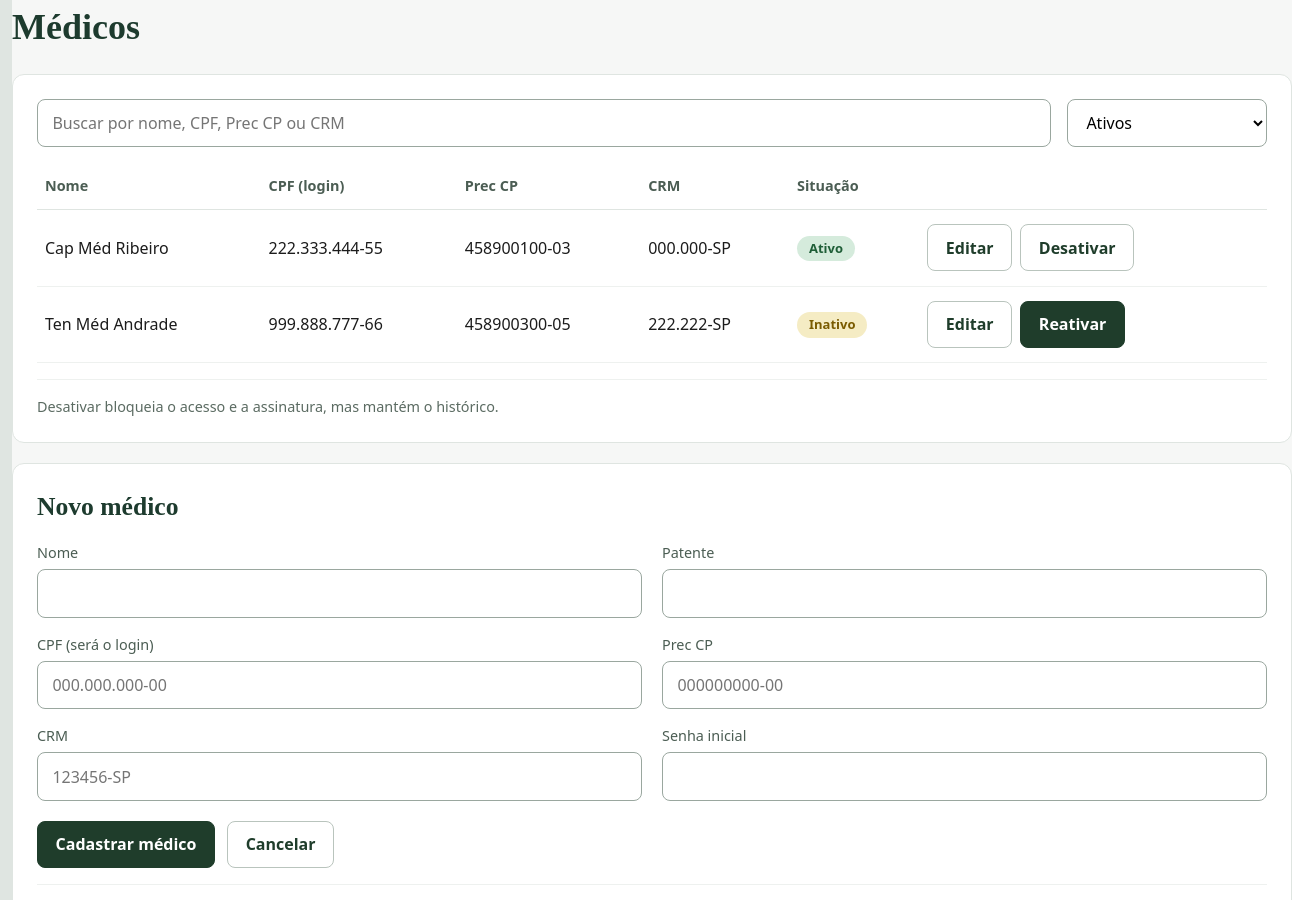
Test: T8-FE · Tela Médicos › mostra o 409 de CPF duplicado no campo CPF
Expected: the text "Cap Méd Ribeiro" is shown, [37, 210, 260, 286]
Type "Maj Méd Teixeira" into the field labelled "Nome" at (340, 594), box [37, 569, 642, 618]
Type "Major" into the field labelled "Patente" at (964, 594), box [662, 569, 1267, 618]
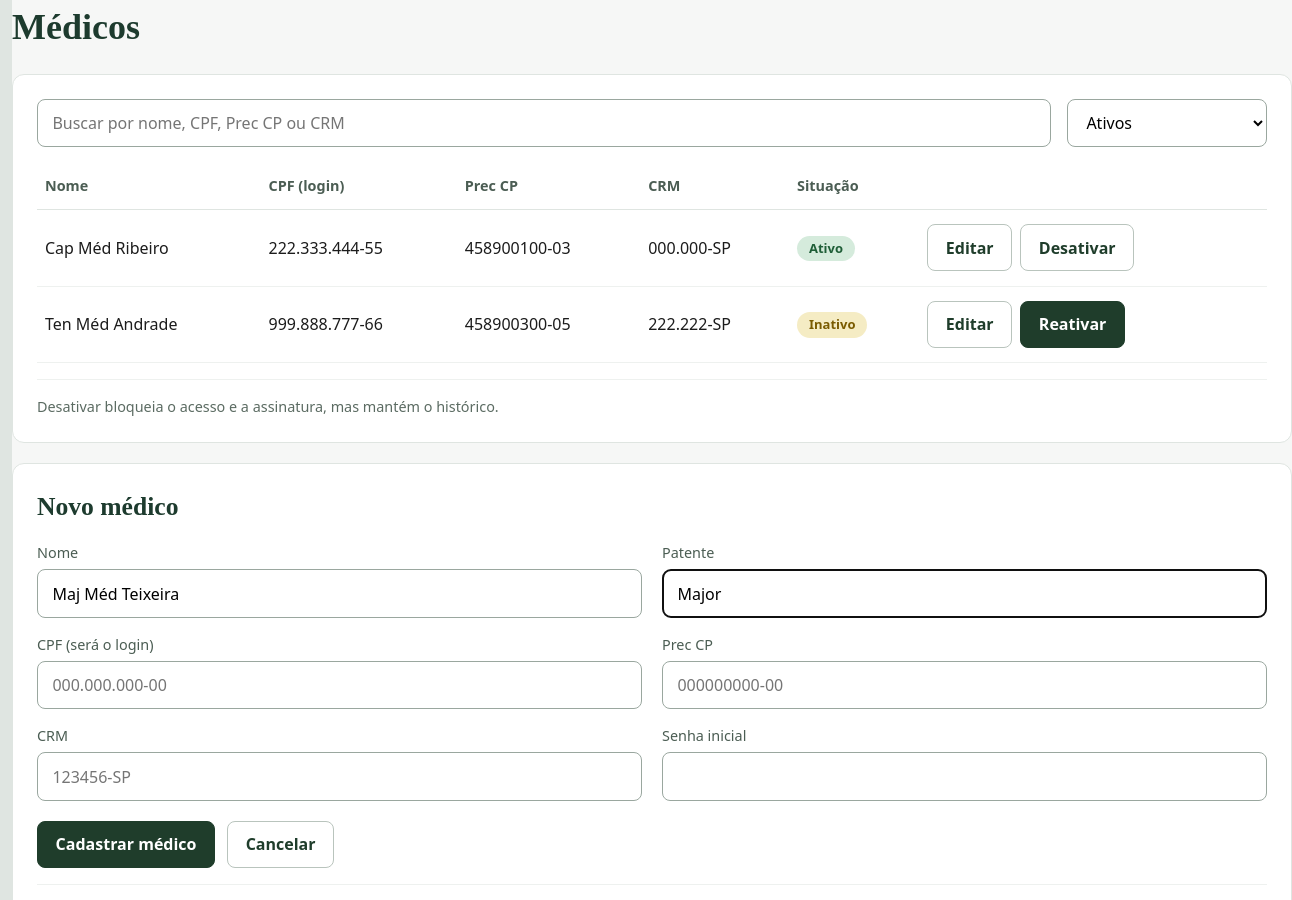
Type "52998224725" into the field labelled "CPF (será o login)" at (340, 685), box [37, 661, 642, 709]
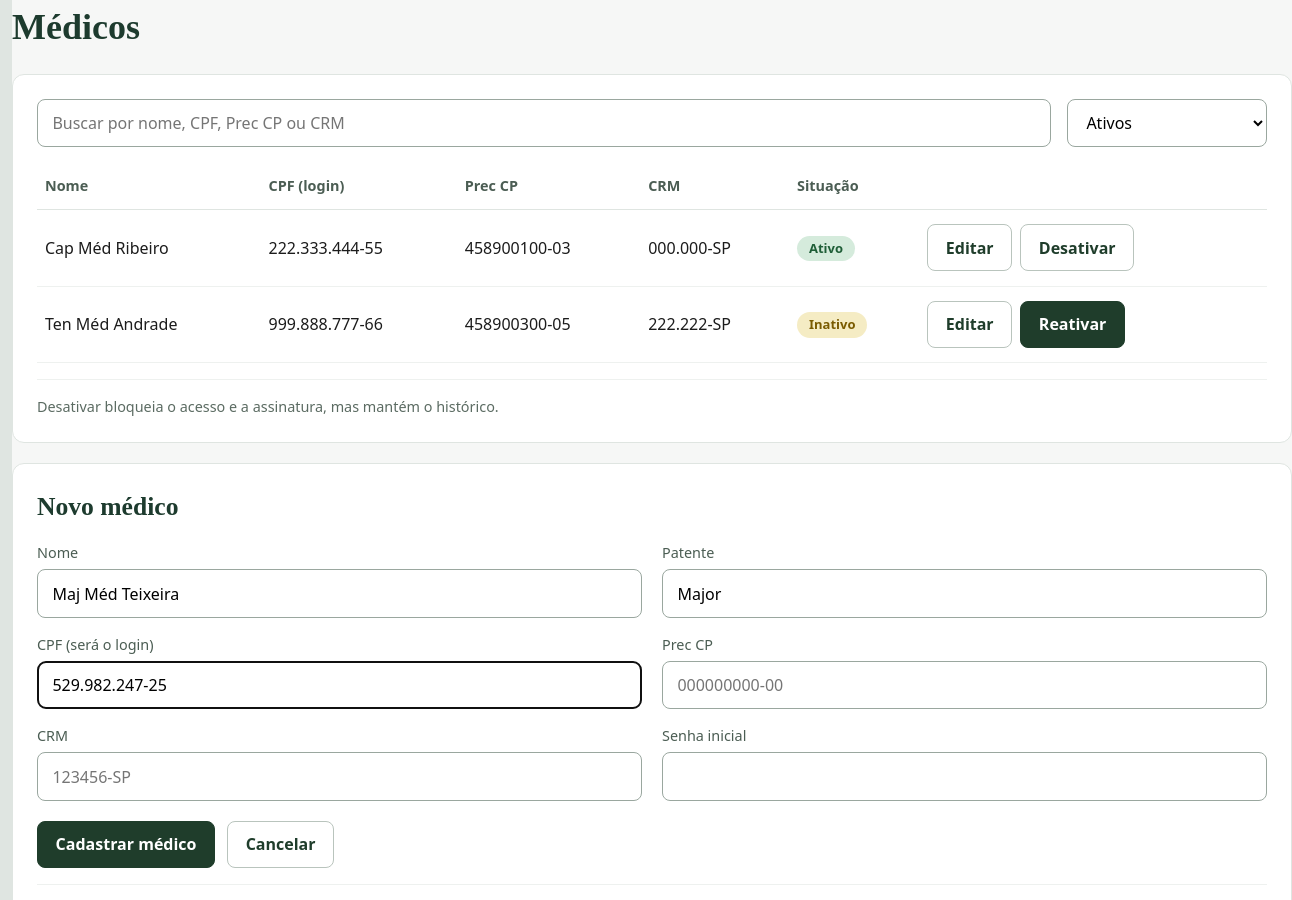
Type "45890020004" into the field labelled "Prec CP" at (964, 685), box [662, 661, 1267, 709]
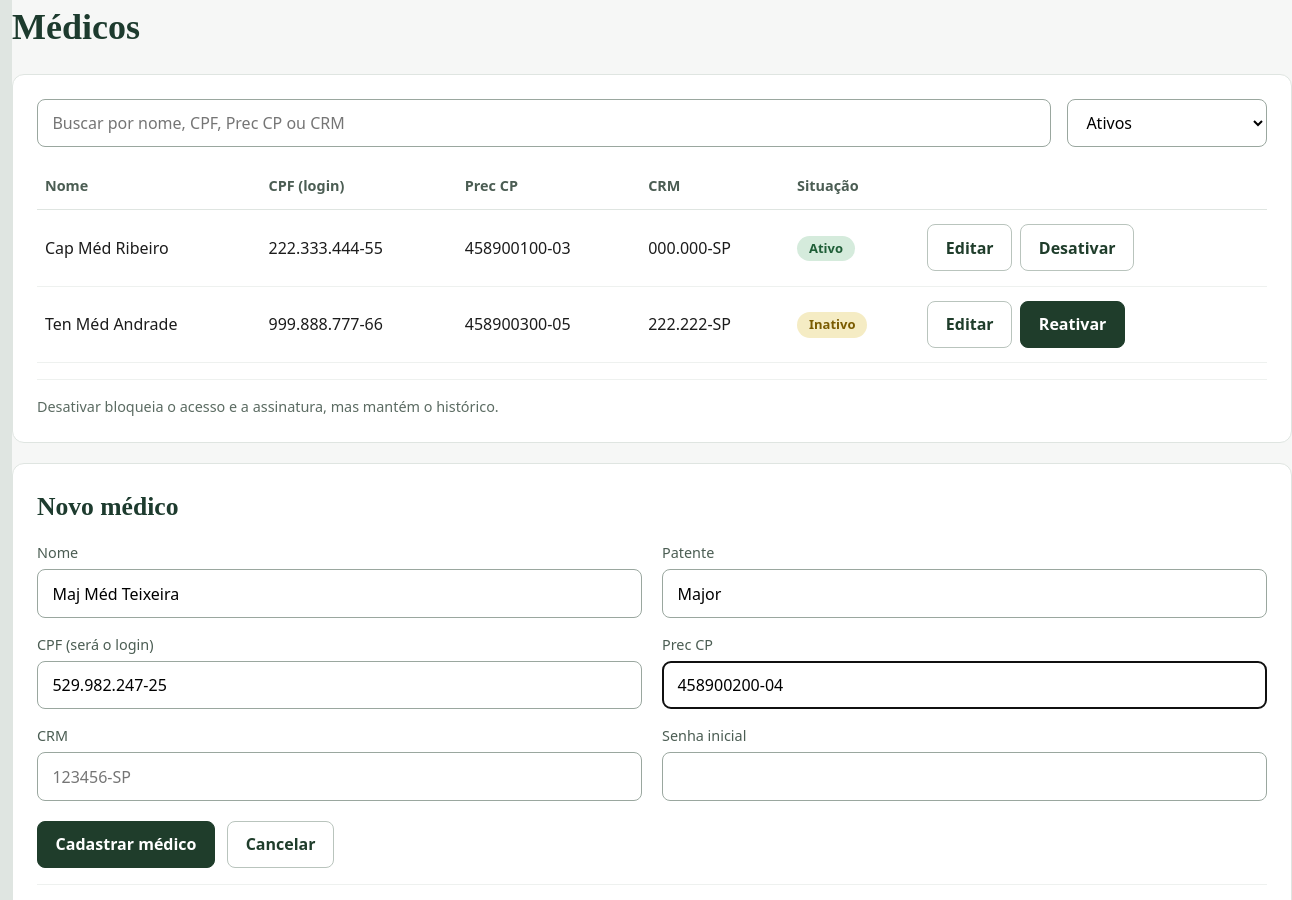
Type "111111-SP" into the field labelled "CRM" at (340, 777), box [37, 752, 642, 801]
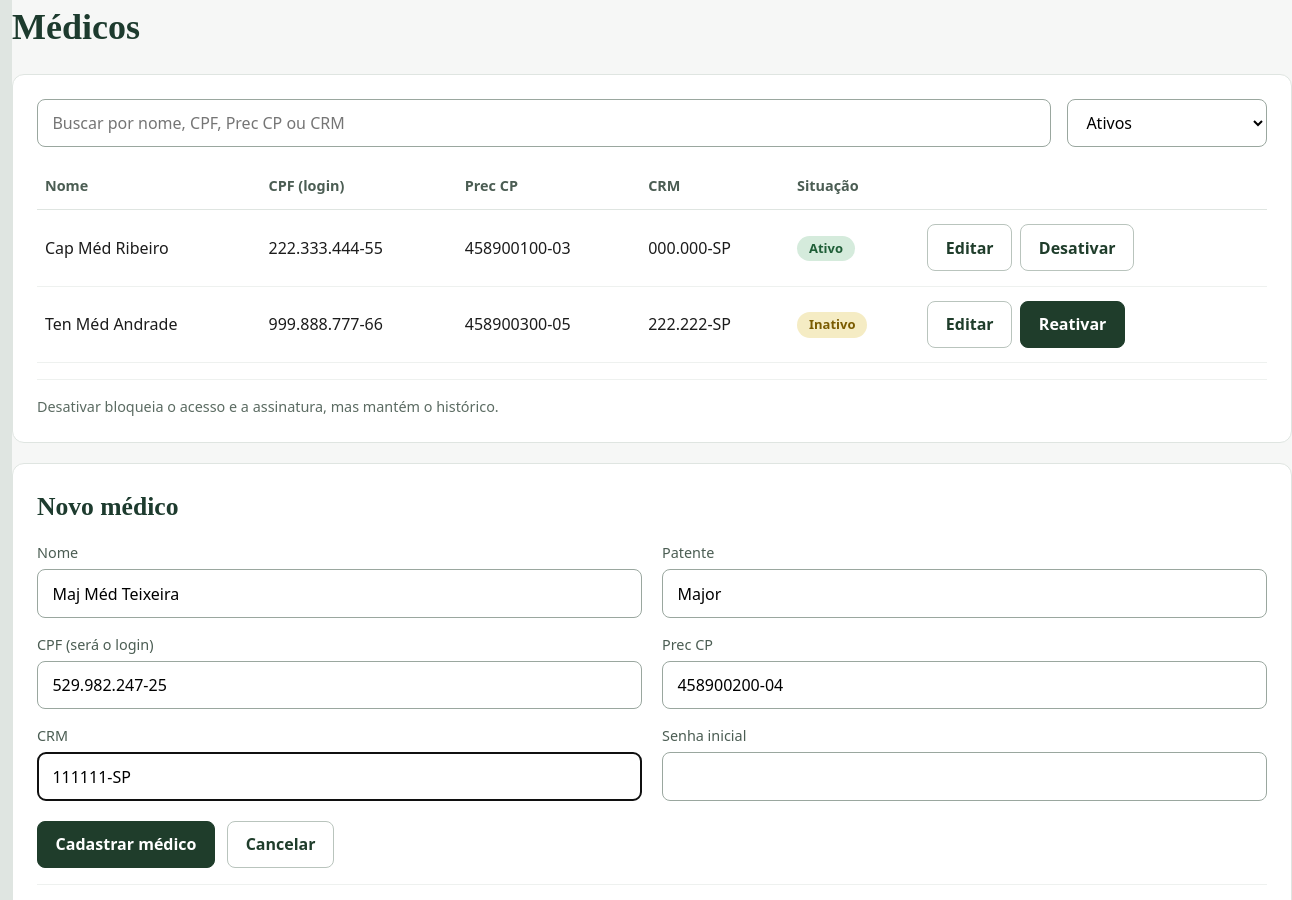
Type "Senha12345" into the password field labelled "Senha inicial" at (964, 777), box [662, 752, 1267, 801]
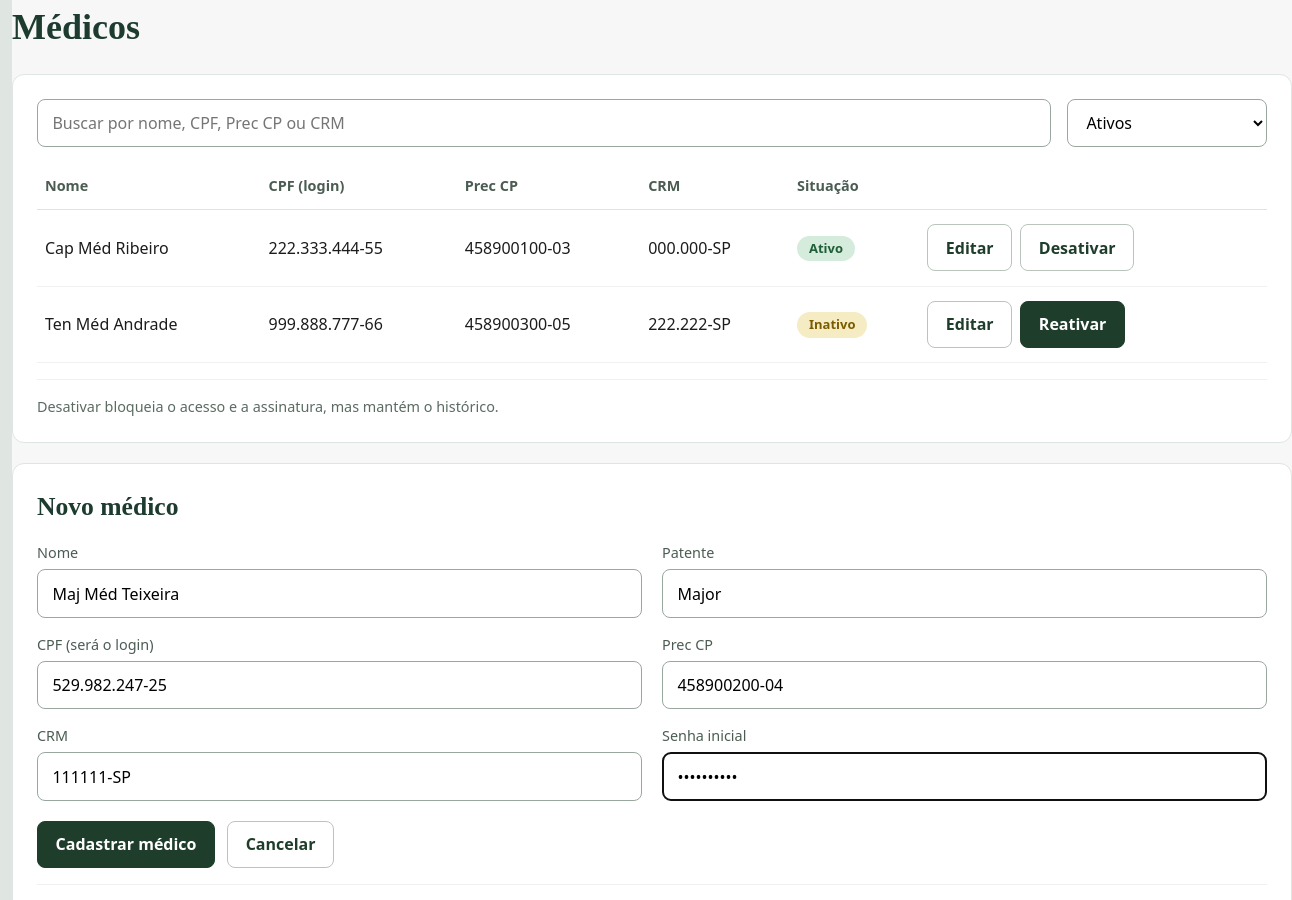
Click the button "Cadastrar médico" at (126, 844), box [37, 821, 215, 868]
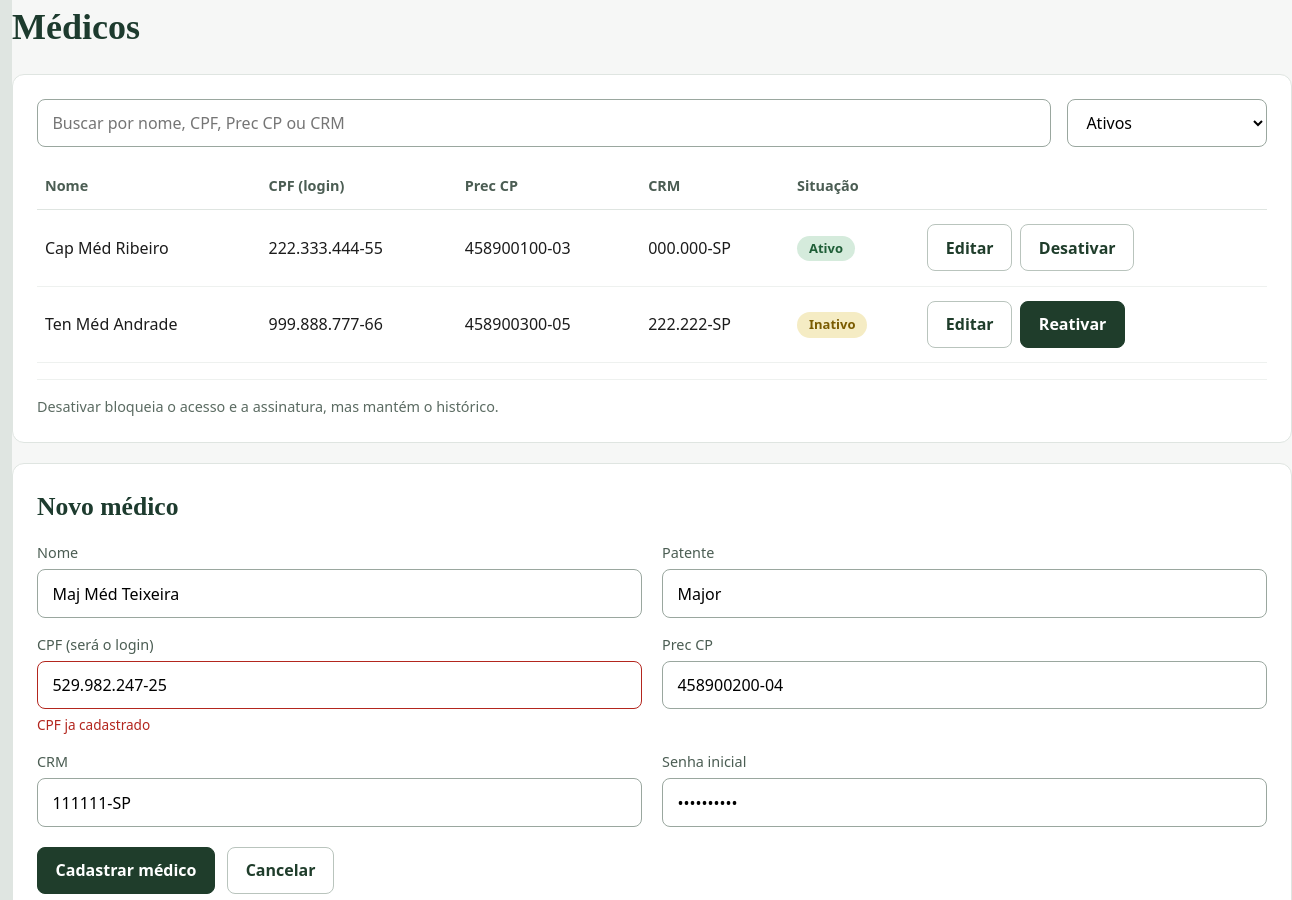
Expected: the text "CPF ja cadastrado" is shown, [37, 715, 150, 734]
